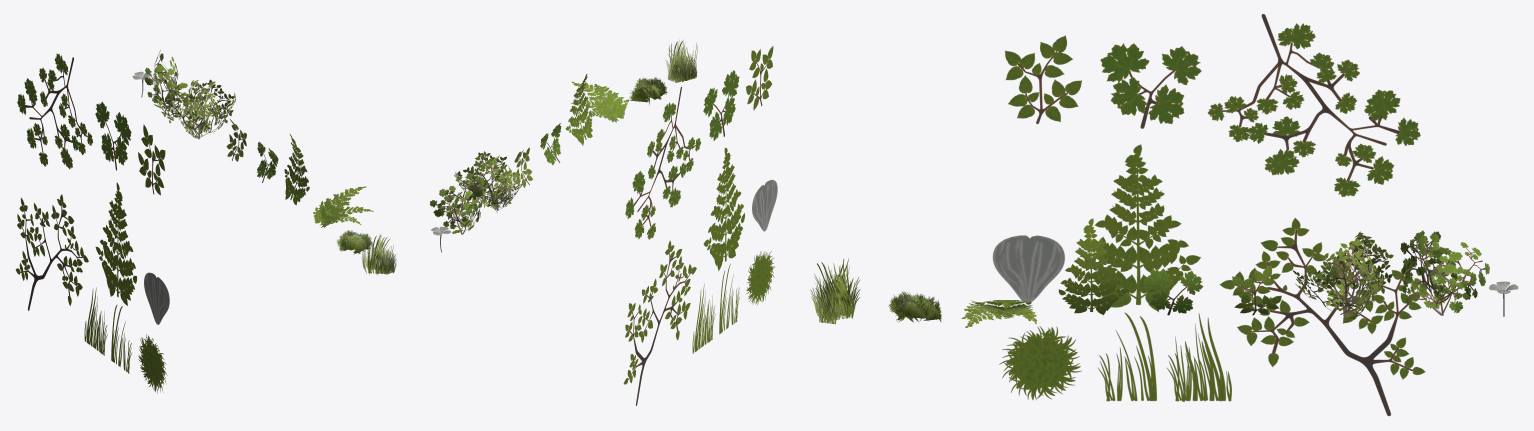
File: stylized_foliage.glb
3 renders of one model, left to right at view 1: azimuth 30°, elevation 25°; view 2: azimuth 150°, elevation 25°; view 3: azimuth 270°, elevation 25°, orthographic. The views are drawn at different scales.
Parts seen in each view (by area): view 1: PLANE_LOW, branch_cluster_2, ferns, branch_cluster_1, grass_cluster_1, fern, moss_cluster, branch_2, branch_1; view 2: PLANE_LOW, branch_cluster_2, branch_cluster_1, ferns, grass_cluster_1, fern, moss_cluster, branch_2, branch_1; view 3: PLANE_LOW, branch_cluster_2, branch_cluster_1, fern, grass_cluster_1, branch_2, ferns, branch_1, moss_cluster.
Boxes of the visible parts, bbox=[...] form: PLANE_LOW: bbox=[15, 53, 169, 393]; branch_cluster_2: bbox=[158, 79, 235, 139]; ferns: bbox=[313, 186, 373, 227]; branch_cluster_1: bbox=[145, 50, 191, 111]; grass_cluster_1: bbox=[361, 233, 396, 275]; fern: bbox=[284, 133, 309, 205]; moss_cluster: bbox=[336, 230, 371, 254]; branch_2: bbox=[257, 141, 278, 182]; branch_1: bbox=[226, 118, 246, 161]; PLANE_LOW: bbox=[623, 46, 777, 405]; branch_cluster_2: bbox=[454, 151, 523, 213]; branch_cluster_1: bbox=[430, 174, 488, 234]; ferns: bbox=[571, 81, 629, 122]; grass_cluster_1: bbox=[665, 39, 697, 83]; fern: bbox=[565, 74, 592, 145]; moss_cluster: bbox=[629, 77, 667, 104]; branch_2: bbox=[540, 123, 561, 165]; branch_1: bbox=[512, 147, 533, 187]; PLANE_LOW: bbox=[992, 14, 1425, 416]; branch_cluster_2: bbox=[1292, 231, 1393, 322]; branch_cluster_1: bbox=[1400, 230, 1489, 315]; fern: bbox=[1058, 218, 1129, 314]; grass_cluster_1: bbox=[810, 258, 860, 324]; branch_2: bbox=[1144, 268, 1203, 315]; ferns: bbox=[961, 300, 1037, 327]; branch_1: bbox=[1232, 265, 1281, 315]; moss_cluster: bbox=[888, 291, 941, 322].
Bounding box in the file's own units: 3.56 × 4.79 × 7.66.
1 material, 1 textured.
